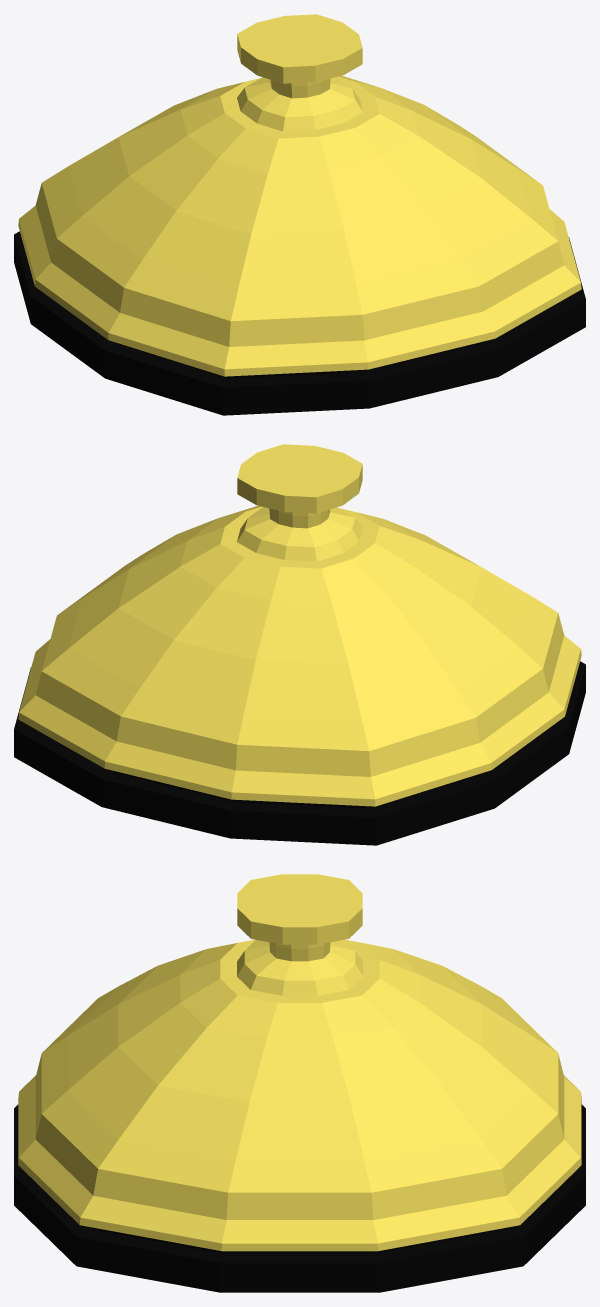
File: Bell.glb
The picture shows the model from 3 angles, top to bottom: view 1: azimuth 30°, elevation 25°; view 2: azimuth 150°, elevation 25°; view 3: azimuth 270°, elevation 25°; orthographic projection. The views are drawn at different scales.
Parts seen in each view (by area): view 1: Bell; view 2: Bell; view 3: Bell.
Part boxes in pixels (<box>): Bell: <box>14,14,585,415</box>; Bell: <box>14,444,585,845</box>; Bell: <box>14,874,585,1292</box>.
Bounding box in the file's own units: 0.153 × 0.0801 × 0.153.
